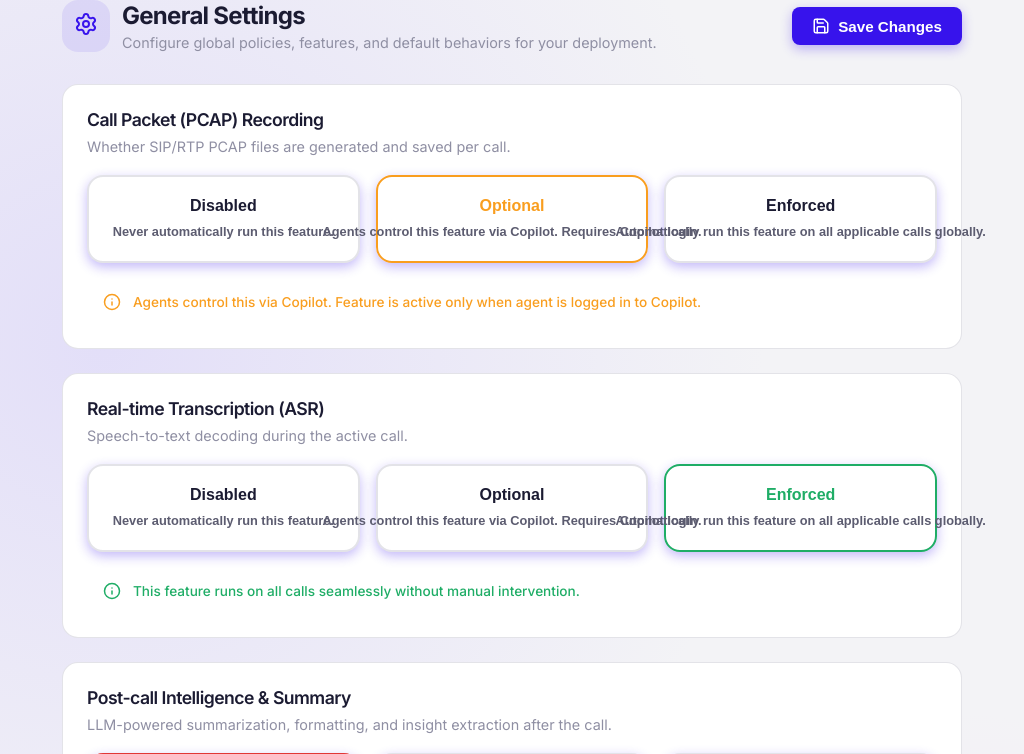
Test: GeneralSettings › shows success message after save
Click the button "Save Changes". click: coordinates (877, 26)
box: [792,7,962,45]
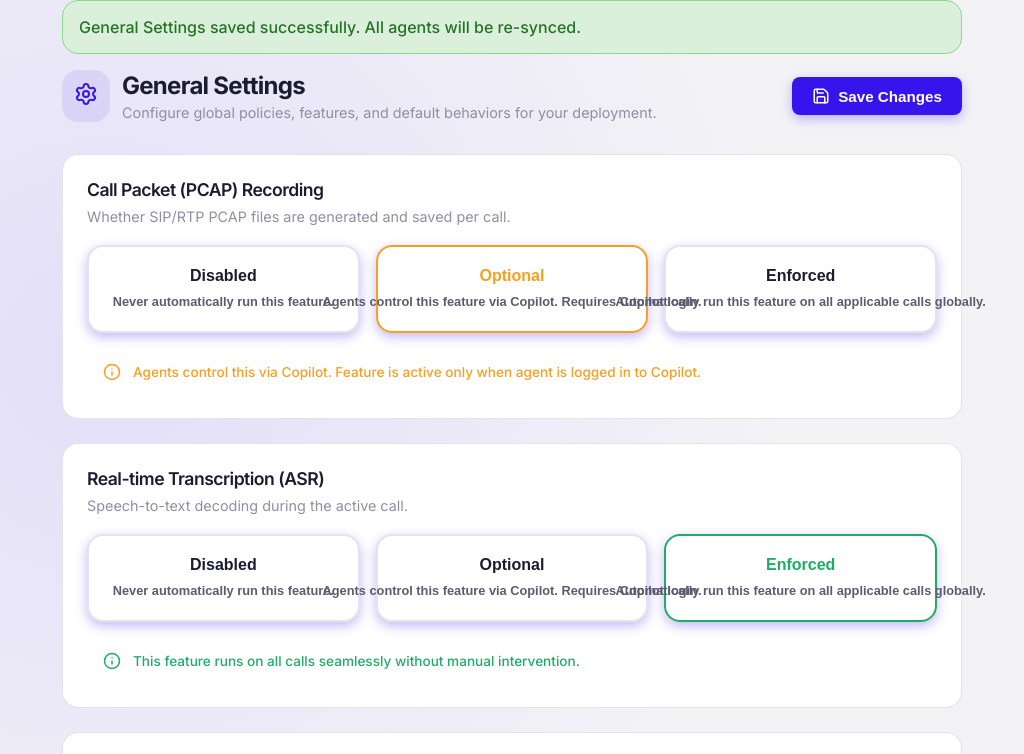
Expected: the text "saved successfully" is shown, [79,17,581,37]
